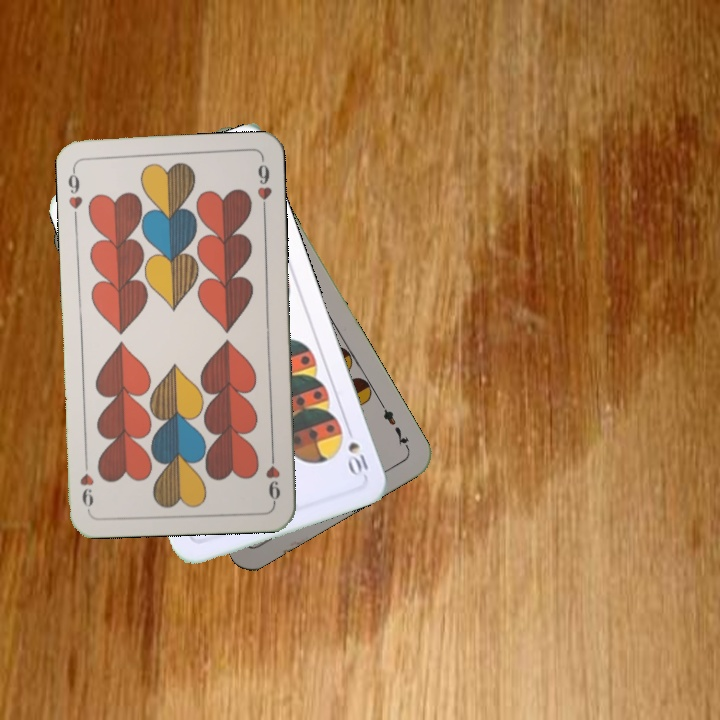E7: (376, 398, 412, 452)
H9: (262, 446, 283, 505), (63, 163, 85, 211)
S10: (342, 421, 371, 479)
